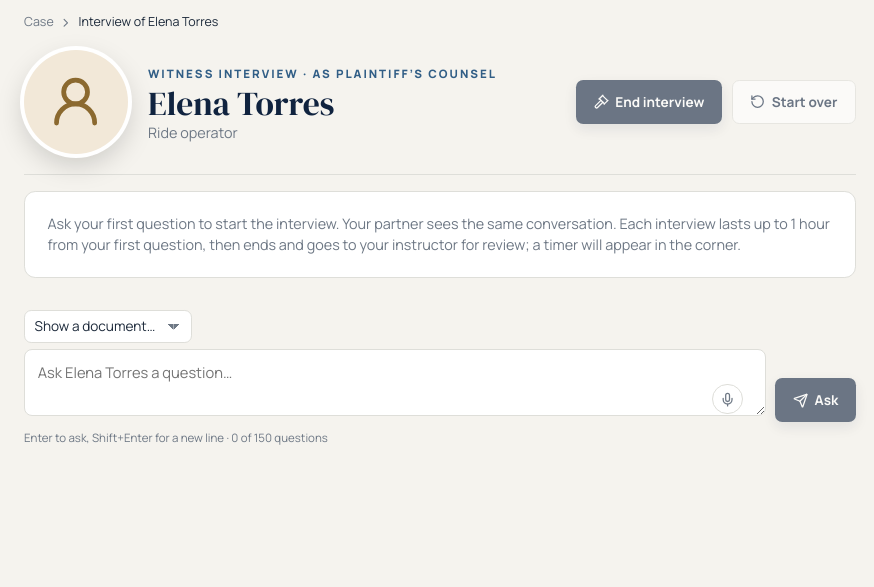
Scenario: InterviewPage: showing documents › shows the witness a case file with the question, and the transcript marks it
Select "Accident log" in the dropdown named "Show the witness a document" at (108, 326), box [24,310,192,343]
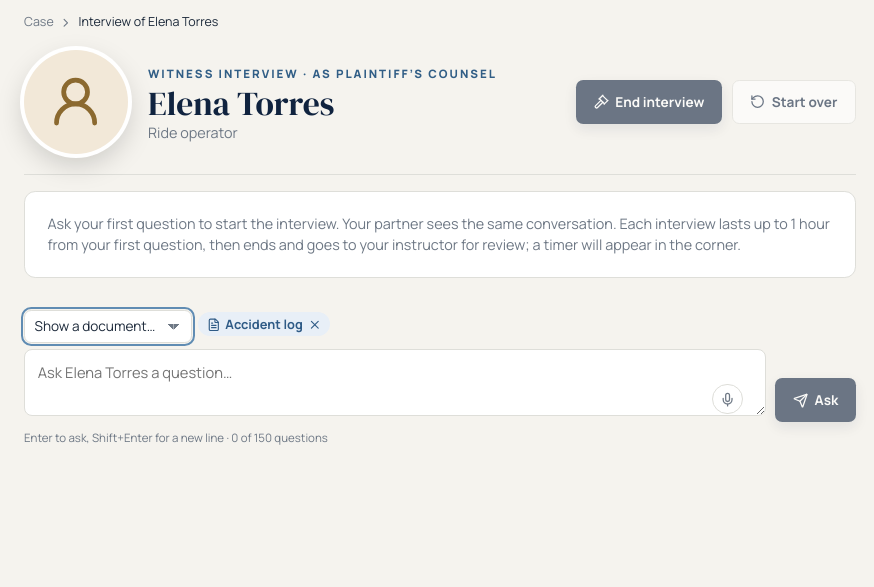
Select "Complaint" in the dropdown named "Show the witness a document" at (108, 326), box [24,310,192,343]
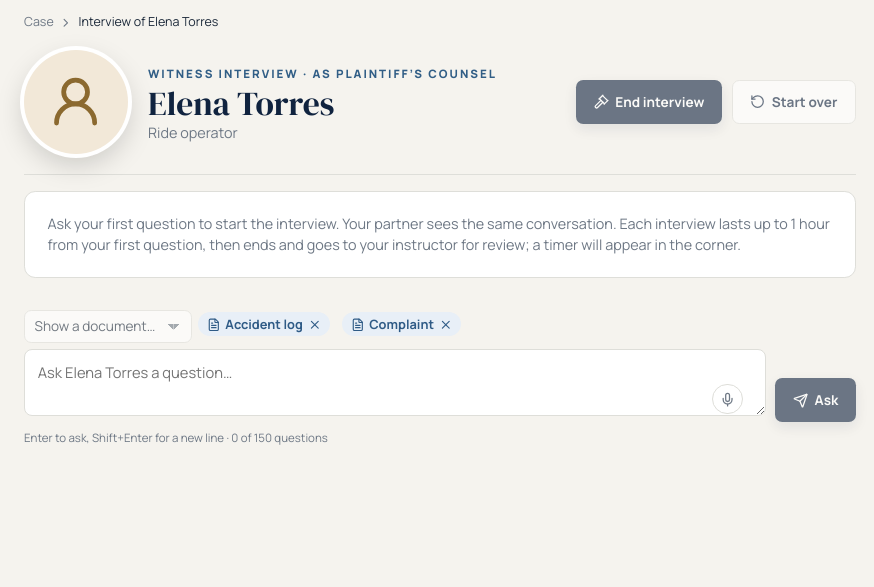
// Changed your mind about one.
Click the button named "Don't show Accident log" at (314, 324), box [308,318,321,331]
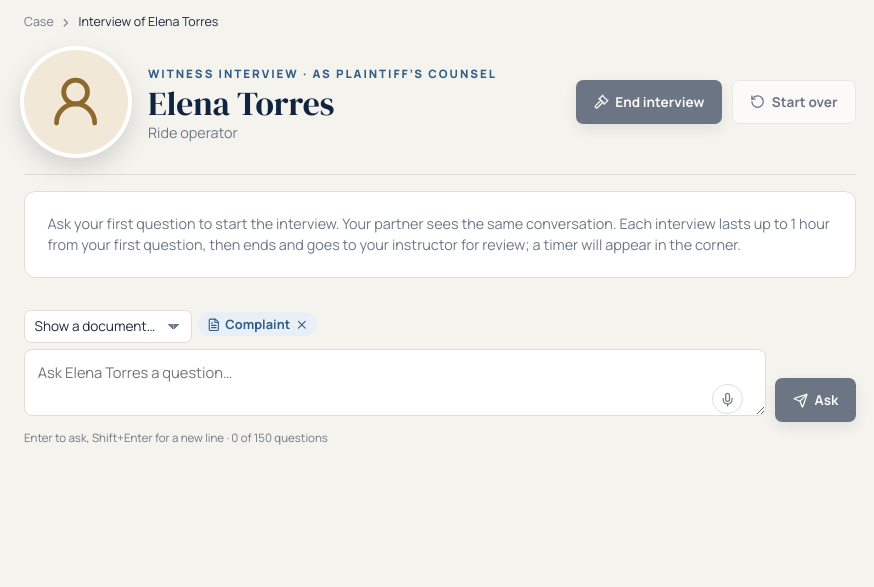
Type "Do you recognize this document?" into the text box named "Your question" at (395, 383), box [24,350,766,416]
Then press Enter
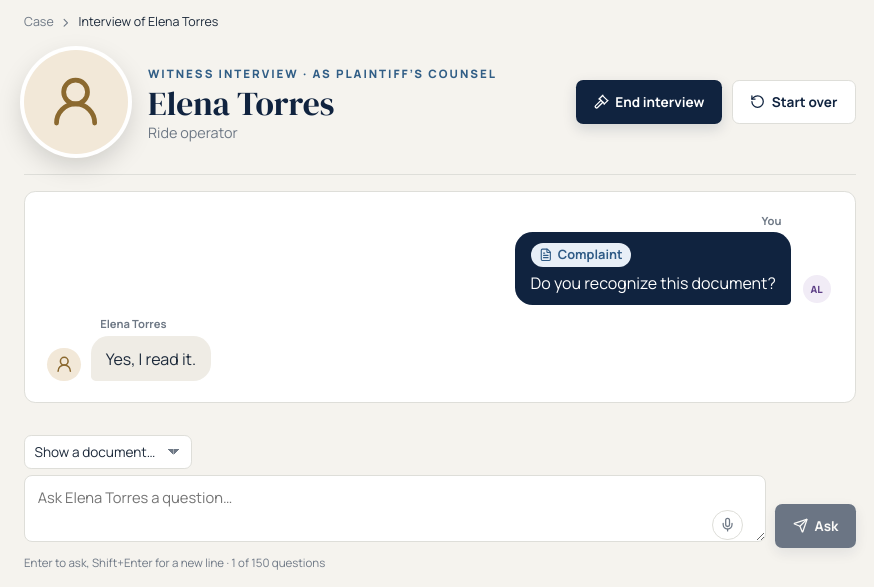
Expected: the text "Complaint Do you recognize this document?" does not show "[Exhibit", [515,232,791,305]
Result: the text "Yes, I read it." is shown at [106,347,196,371]
